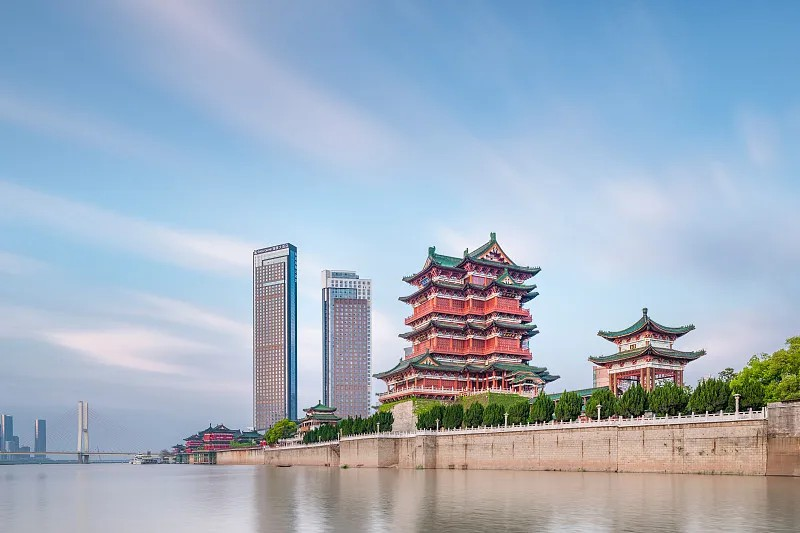Teng: (372, 233, 562, 402)
